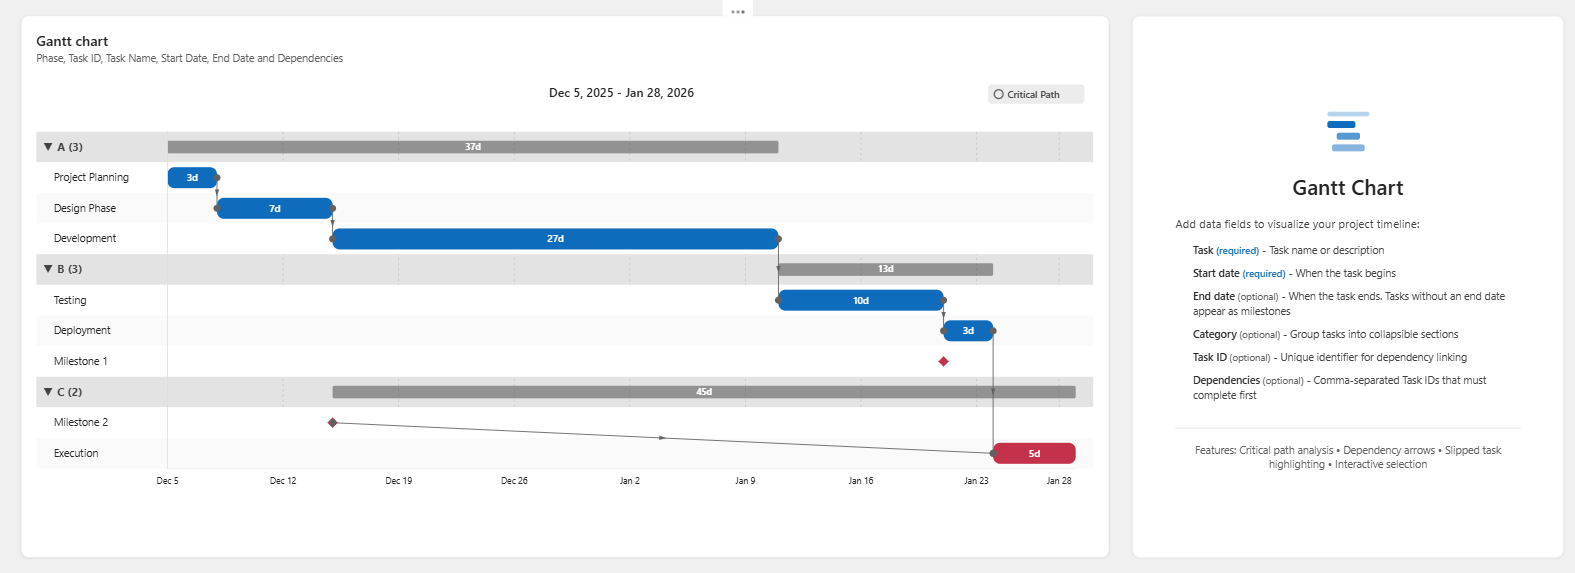

The dashboard page shown, as its layout file describes it:
{"tool":"powerbi","page":{"name":"Gantt","canvas":[1280,720],"ordinal":2},"visuals":[{"type":"gantt51446F686266453390398E5631FF15A1","fields":{"task":["Software project.Task"],"startDate":["Software project.Start"],"endDate":["Software project.End"],"resource":["Software project.Resource"],"context":["Software project.Dependencies"],"category":["Software project.Category"]},"box":[28,16,1136,667.9],"z":0}]}

Visuals, with their boxes on the page's 1280x720 design canvas (x1, y1, x2, y2). These are canvas units, not pixel positions in the 1575x573 screenshot, which may show the page scaled, cropped or inside an application window:
gantt51446F686266453390398E5631FF15A1 - Software project.Task x Software project.Start: [28, 16, 1164, 684]
